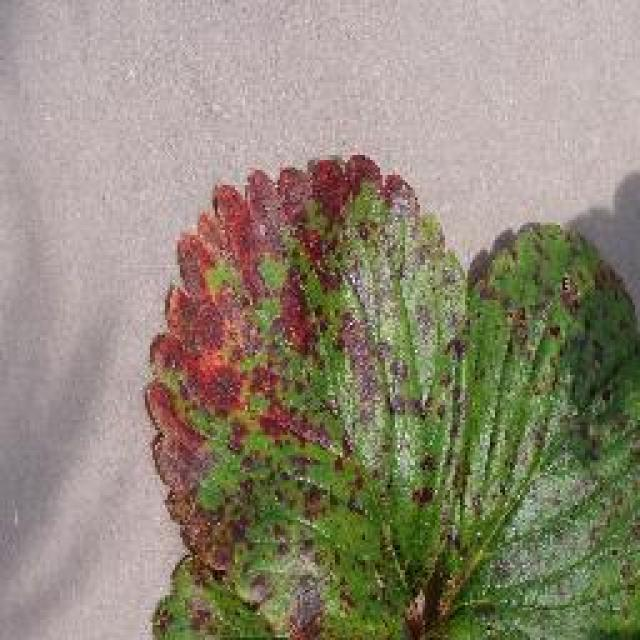Strawberry leaf scorch: (190, 173, 592, 622)
